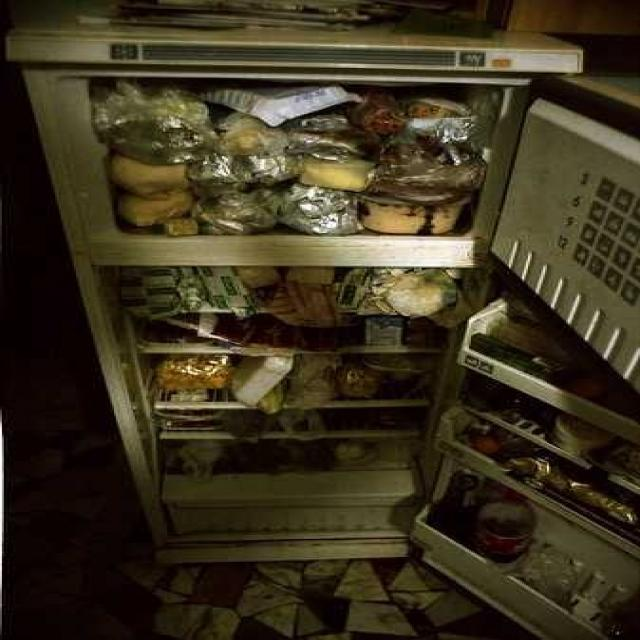refrigerator: (6, 36, 590, 565)
